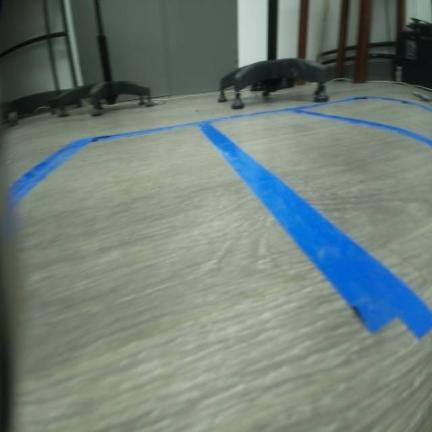place: (0, 116, 431, 426), (193, 106, 431, 347), (283, 94, 431, 145)
